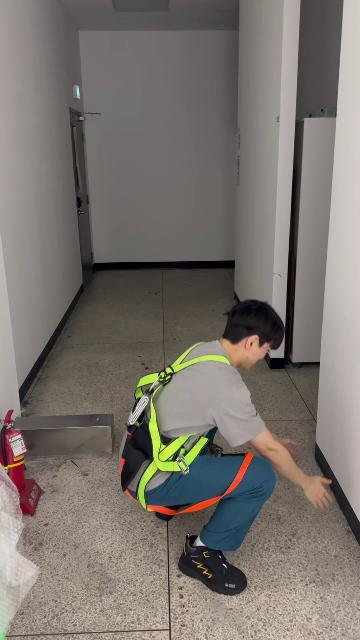helmet_not_worn: (221, 296, 289, 377)
shoe_worn: (178, 535, 246, 595)
vest_worn: (122, 351, 231, 509)
